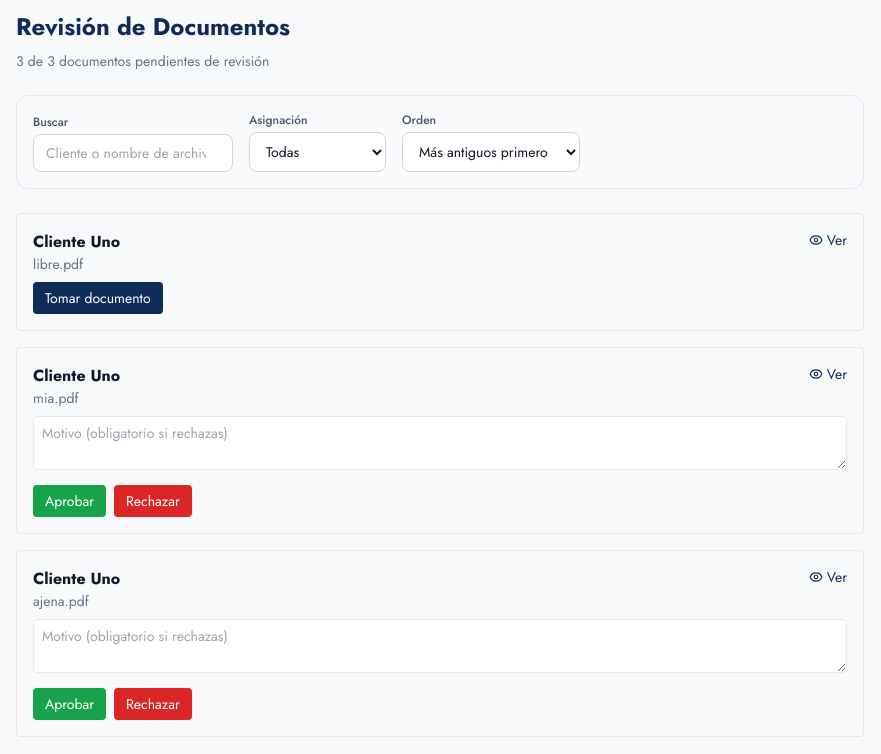
Test case: AgentDocumentsPanel › filtra las asignadas al agente actual
The width and height of the screenshot is (881, 754).
Check: the text "libre.pdf" is shown, box [33,254,83,274]
Select "Asignadas a mí" in the dropdown labelled "Asignación" at (318, 152), box [249,132,386,172]
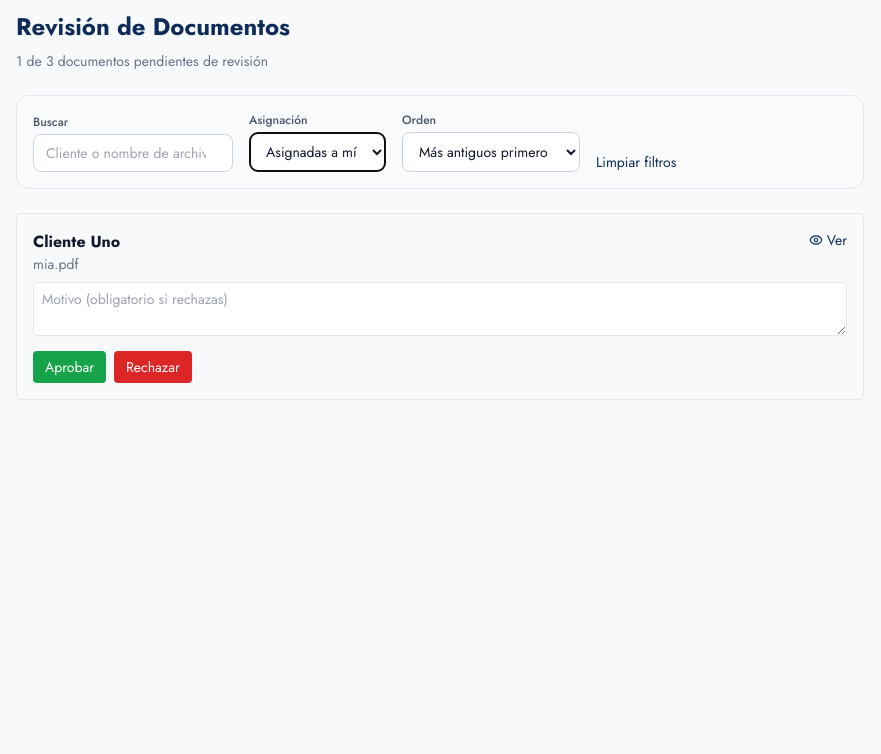
Check: the text "mia.pdf" is shown, box [33,254,78,274]
Check: the text "libre.pdf" is gone
Check: the text "ajena.pdf" is gone
